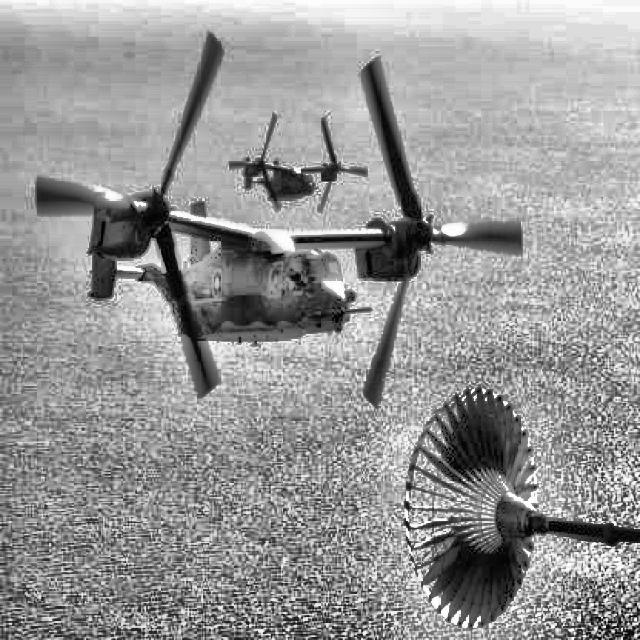V22: (36, 31, 524, 407), (228, 112, 367, 214)
